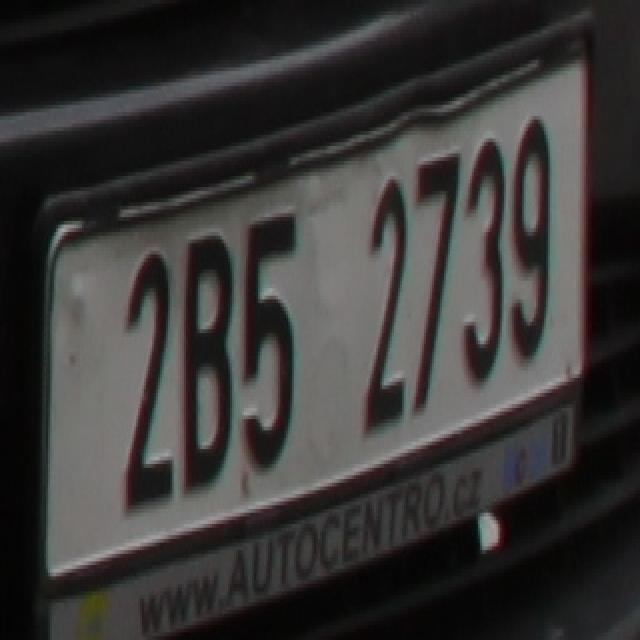2: (122, 247, 176, 505), (368, 176, 406, 427)
3: (464, 135, 504, 389)
5: (240, 210, 294, 464)
7: (412, 146, 458, 415)
9: (510, 116, 552, 356)
B: (182, 225, 234, 490)
